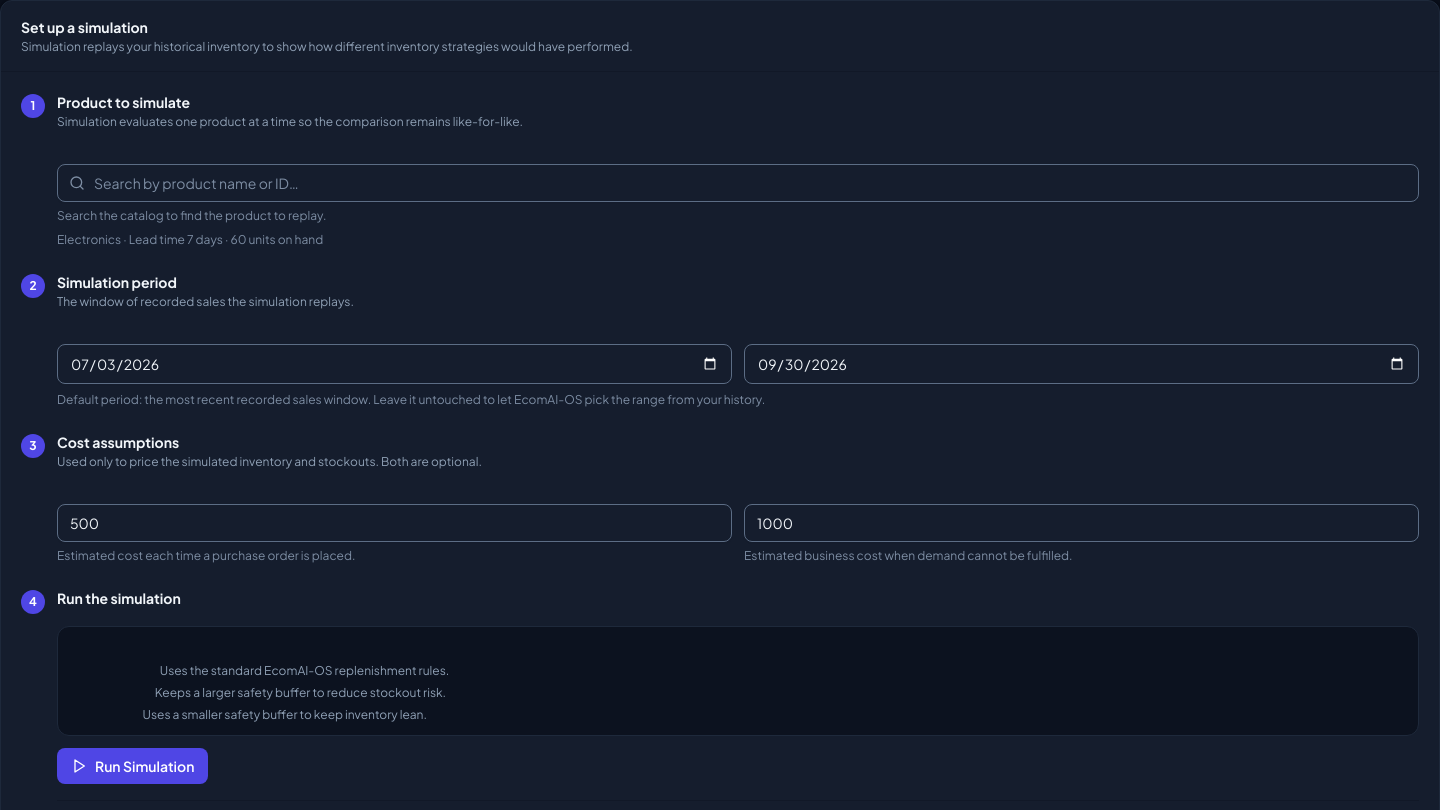
Test case: the Simulation page under the dark theme › renders the setup form, with the combobox working
This screenshot has width=1440, height=810.
expect the button "Run Simulation" is shown: met, box [57,748,208,784]
Type "headphones" into the dropdown at (738, 183), box [57,164,1419,202]
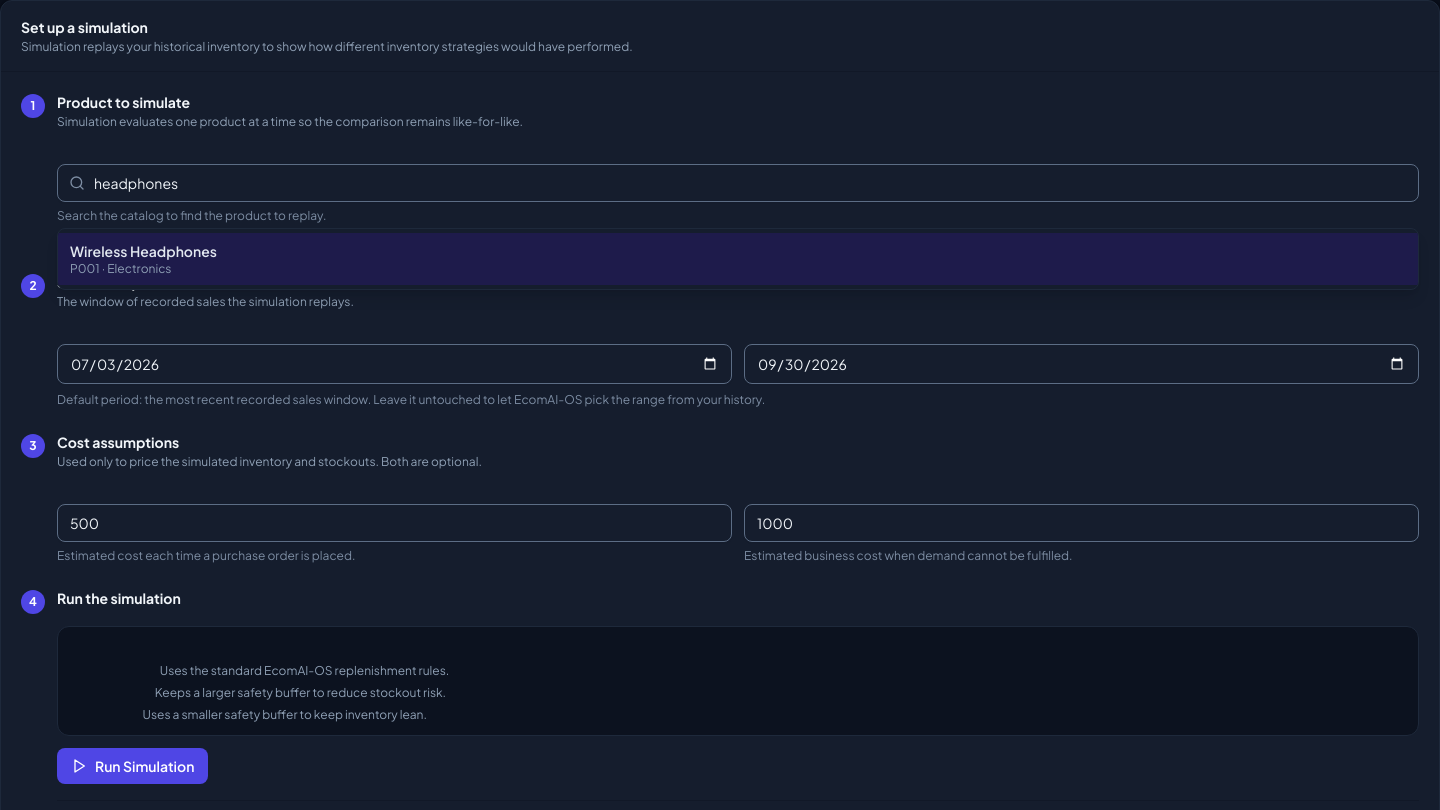
expect the option shows "Wireless Headphones": met, box [58,233,1418,285]
